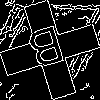B: (25, 25, 70, 78)
